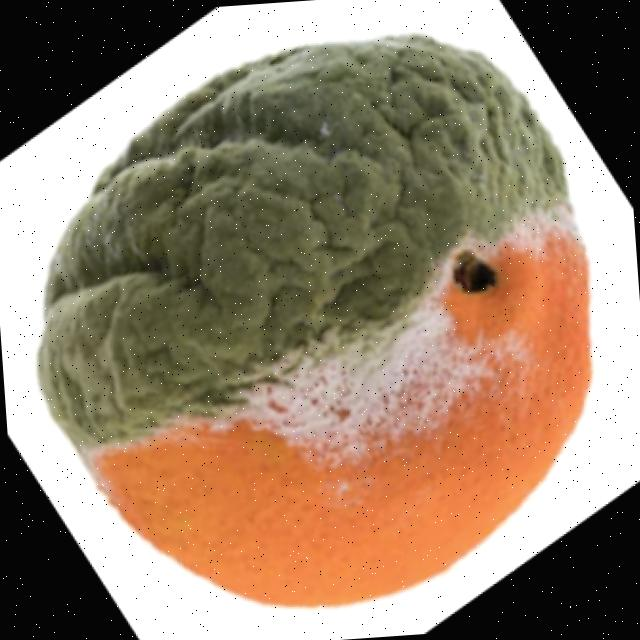Rotten: (14, 19, 610, 623)
